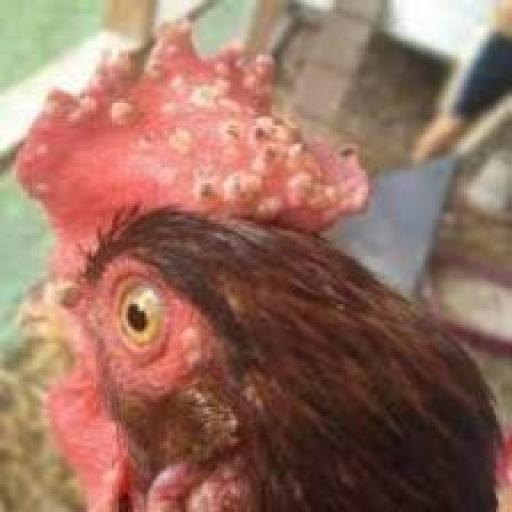disease: (9, 40, 378, 226)
